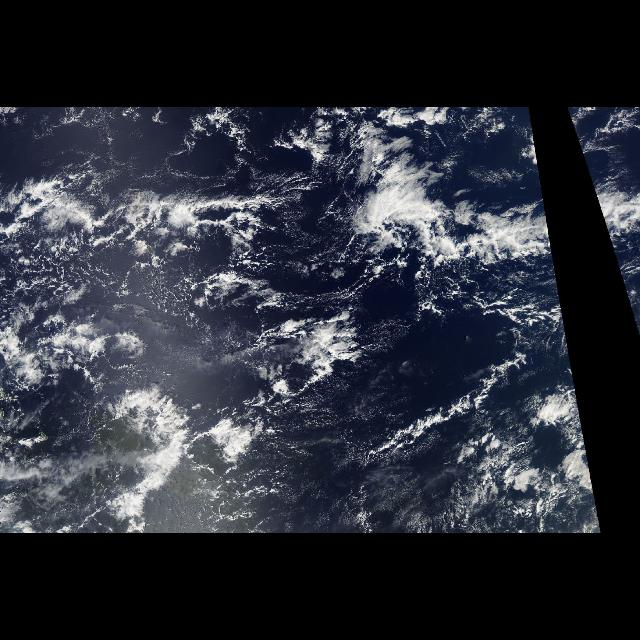Fish: (13, 170, 561, 304), (585, 170, 639, 304)
Gravel: (6, 170, 354, 528)
